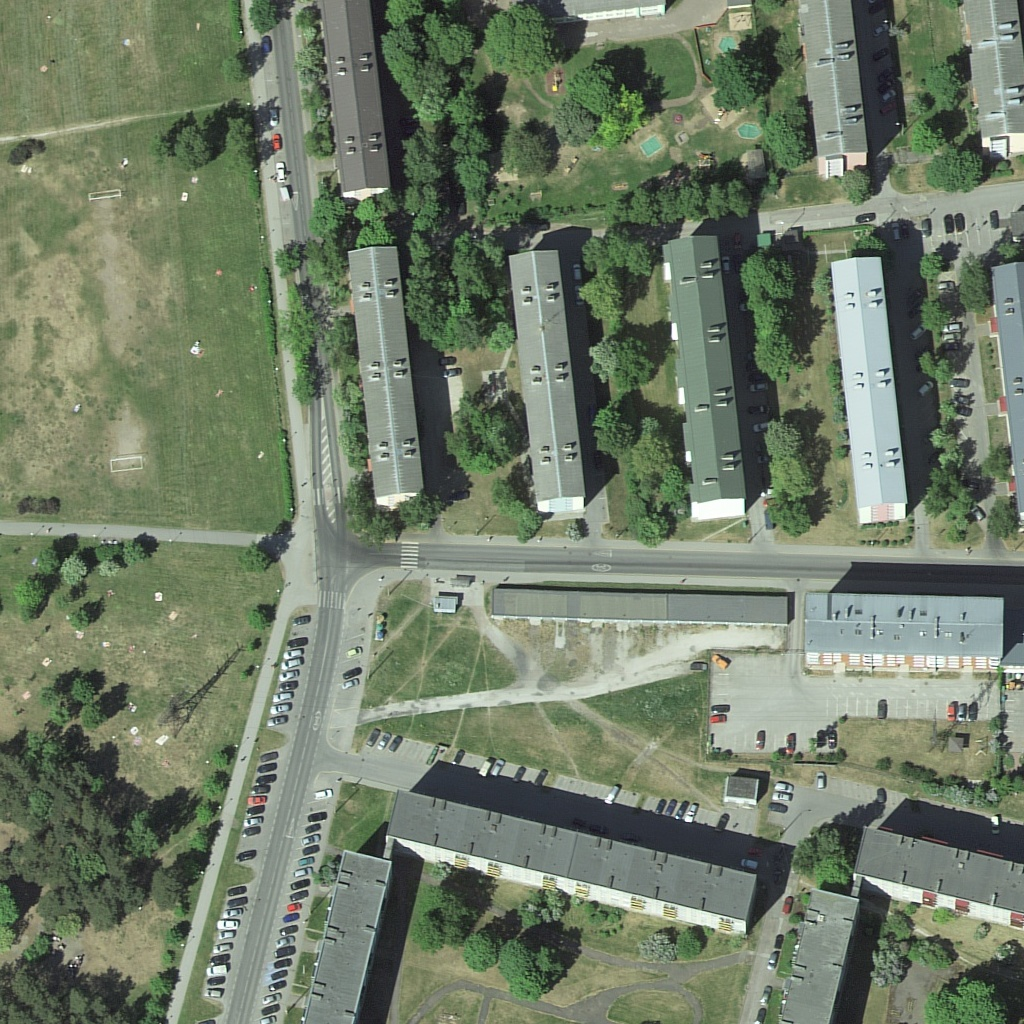building: (387, 790, 760, 933), (661, 232, 749, 516), (830, 256, 911, 522), (509, 248, 588, 511), (350, 243, 428, 508), (803, 584, 1005, 673), (849, 825, 1024, 926), (302, 851, 390, 1024), (322, 1, 397, 199), (800, 1, 872, 177), (781, 883, 864, 1024), (958, 1, 1024, 155)
